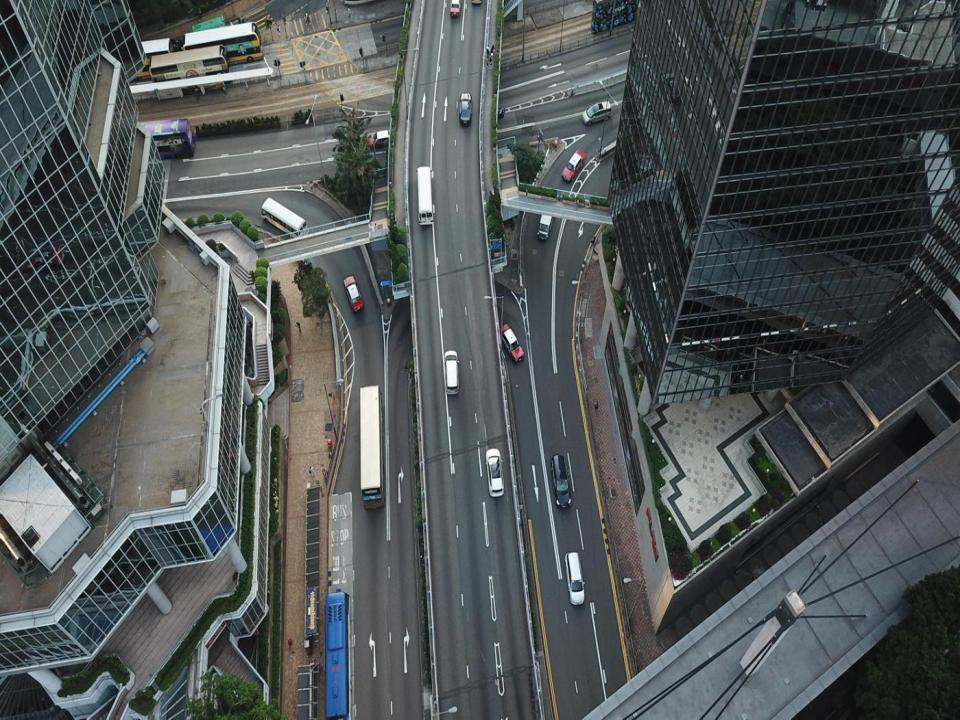bus: (150, 40, 231, 91), (183, 21, 262, 67), (324, 592, 352, 718), (359, 383, 386, 512), (119, 117, 196, 161), (113, 36, 172, 73), (259, 195, 307, 240), (416, 164, 435, 228)
car: (497, 322, 525, 364), (483, 447, 506, 498), (581, 95, 615, 128), (560, 146, 587, 186), (342, 274, 364, 315), (444, 349, 460, 397), (458, 91, 473, 126), (449, 0, 462, 17)
van: (549, 451, 572, 511), (565, 548, 587, 608), (538, 195, 554, 243)
